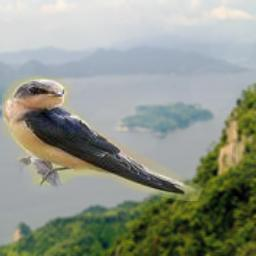Swallow: (2, 71, 205, 201)
